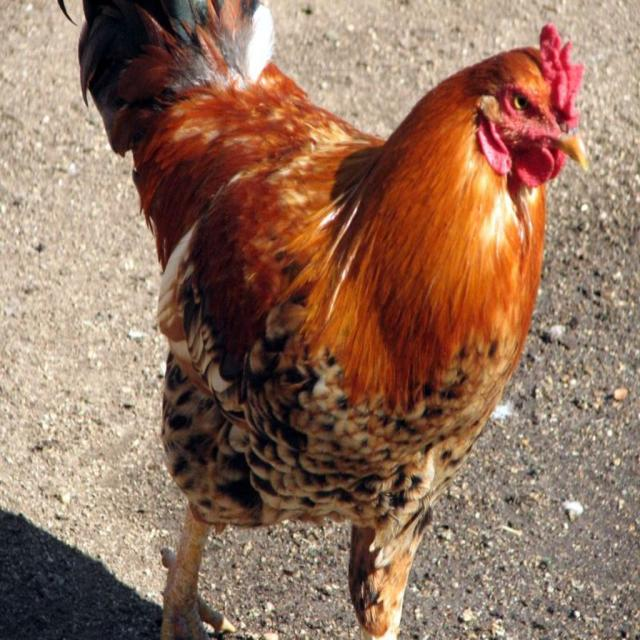Chicken: (34, 0, 586, 638)
